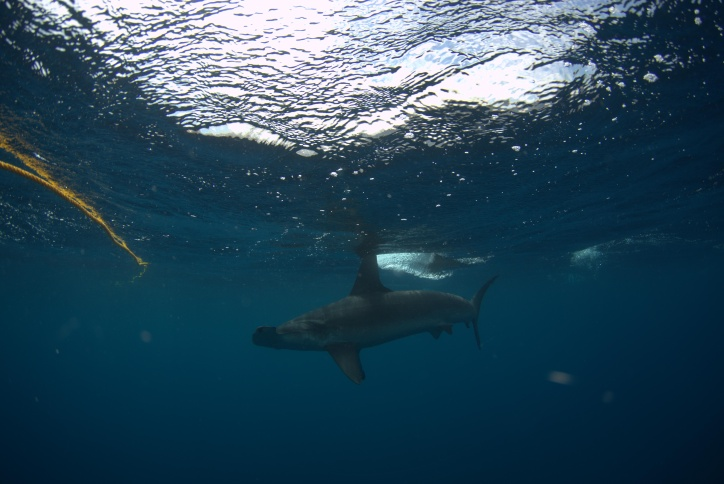Hammer: (221, 217, 539, 406)
